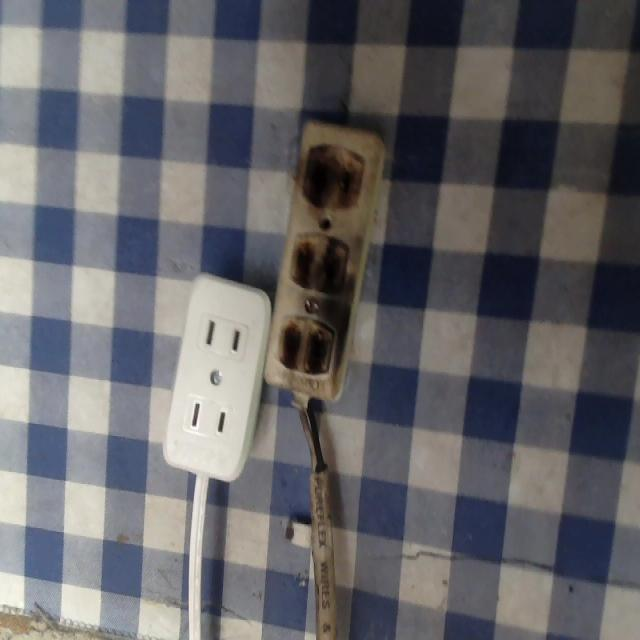-: (285, 226, 350, 298), (275, 312, 336, 383), (303, 139, 361, 212)
